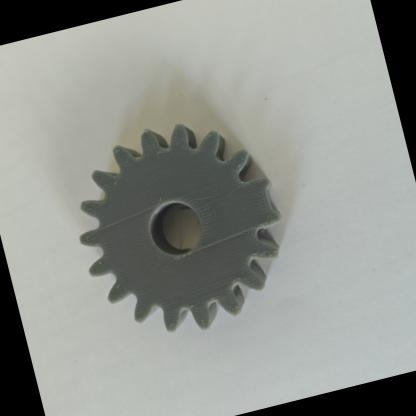defect: (212, 162, 300, 252)
gear: (46, 82, 336, 372)
